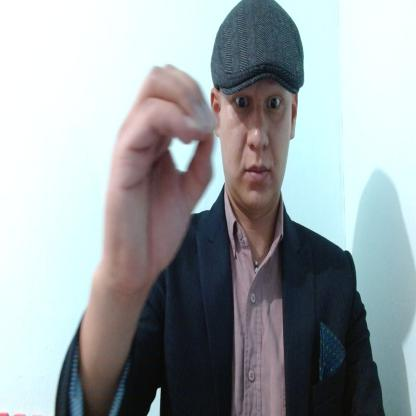O: (102, 61, 218, 278)
